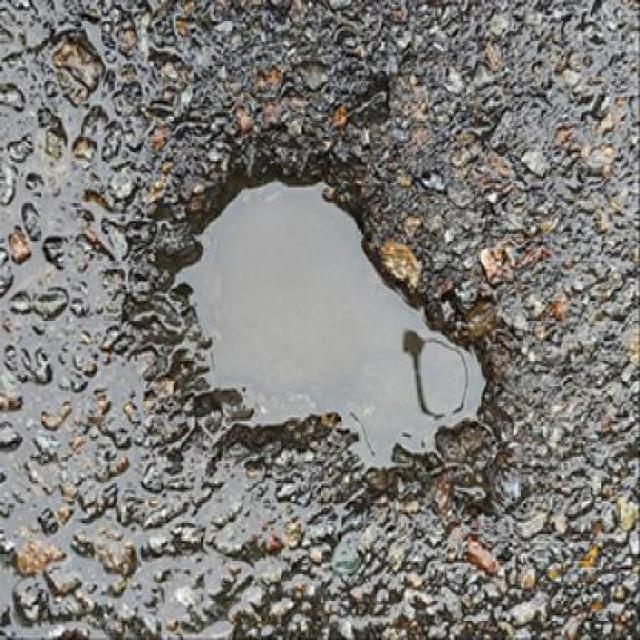Pothole: (142, 143, 515, 477)
